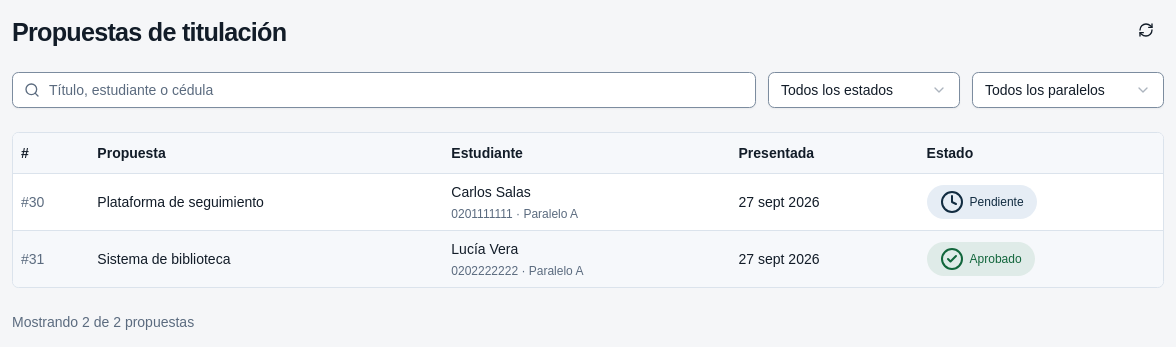
Test: Coordinación de titulación › limpia los filtros
The width and height of the screenshot is (1176, 347).
Expected: the text "Plataforma de seguimiento" is shown, [97, 194, 264, 210]
Expected: the button "Limpiar" is not shown
Step 1. Click the dropdown named "Filtrar por Estado" → (864, 90), box [768, 72, 960, 108]
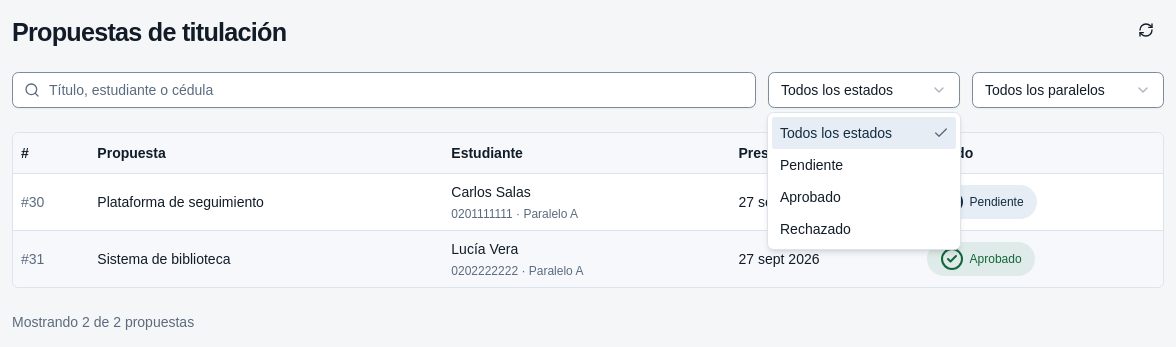
Step 2. Click the option "Aprobado" → (810, 197), box [780, 189, 841, 205]
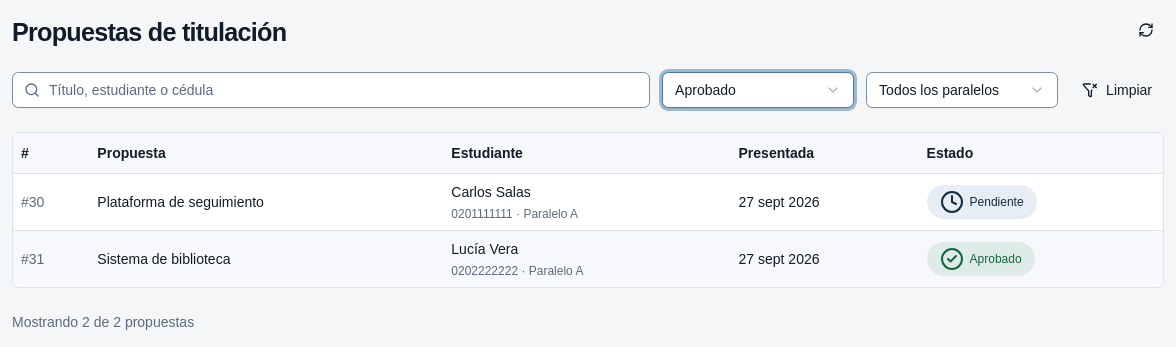
Step 3. Click the button "Limpiar" → (1117, 90), box [1070, 72, 1164, 108]
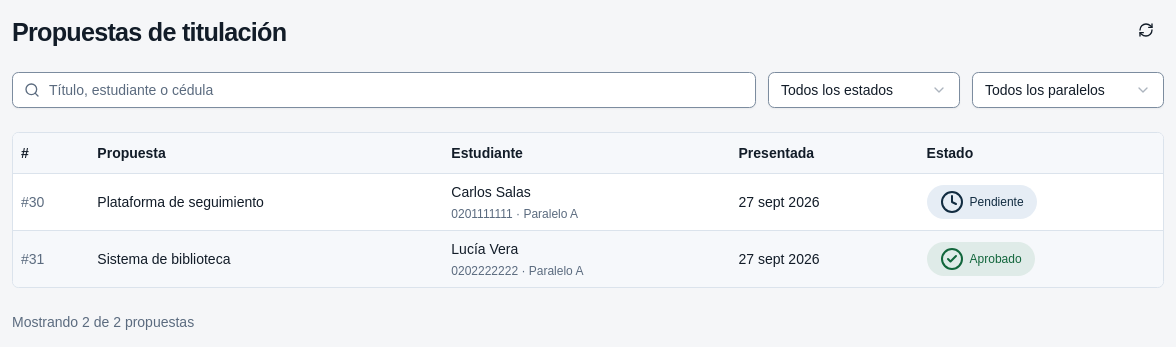
Result: the button "Limpiar" is gone
